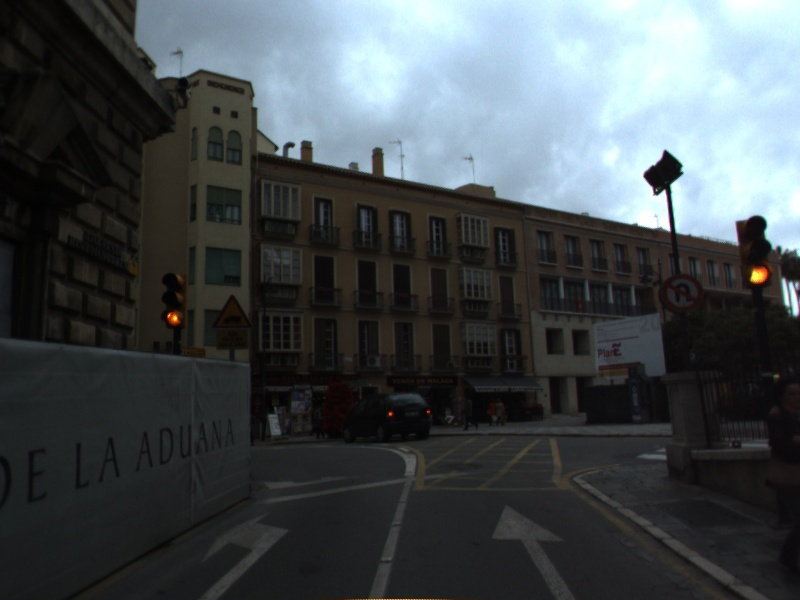LEFT: (192, 507, 296, 600)
STRAIGHT: (486, 500, 575, 600)
